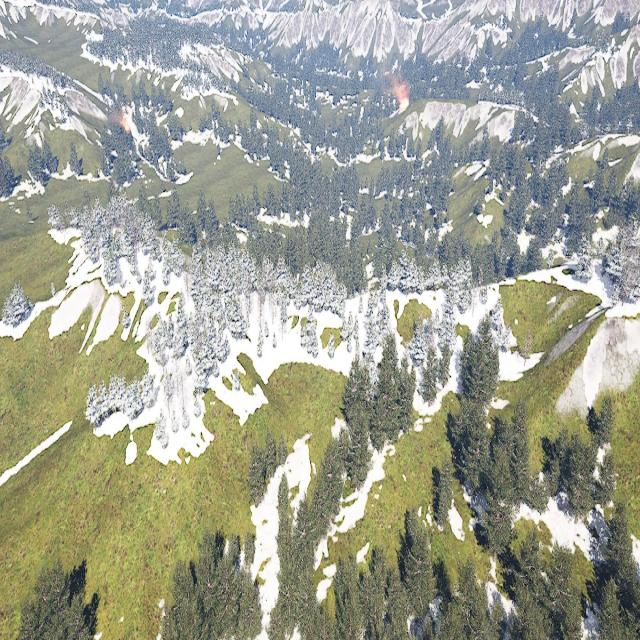fire: (401, 93, 412, 110), (121, 118, 130, 134)
smoke: (379, 55, 404, 94)
